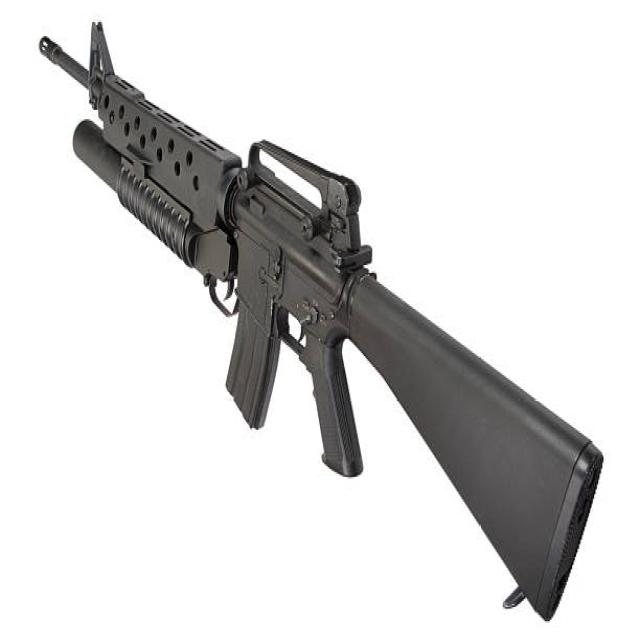rifle: (33, 13, 610, 629)
